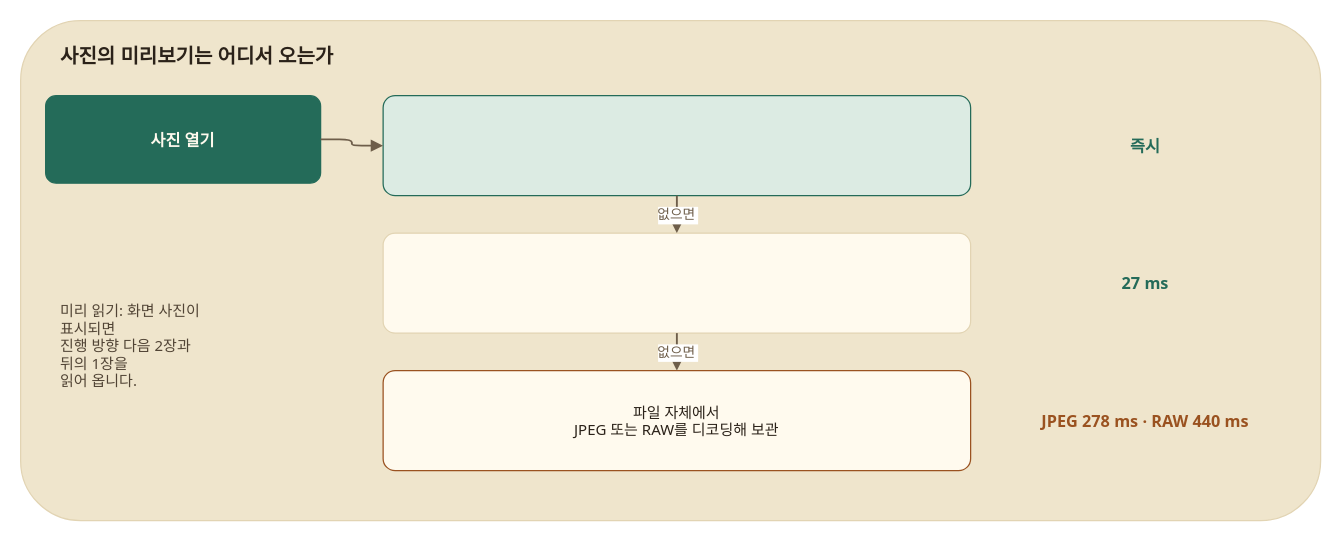
The diagram is 1341 pixels wide and 541 high, and some of its shapes have lost their labels. Each missing label, with the centre of its shape:
"디스크: 표준 미리보기 썸네일 다음에 백그라운드에서 생성 1장 0.66 MB" belongs at [676,282].
"메모리 RAM의 최대 4분의 1 (15, 25, 40%) 화면의 사진과 그 앞뒤" belongs at [676,145].
